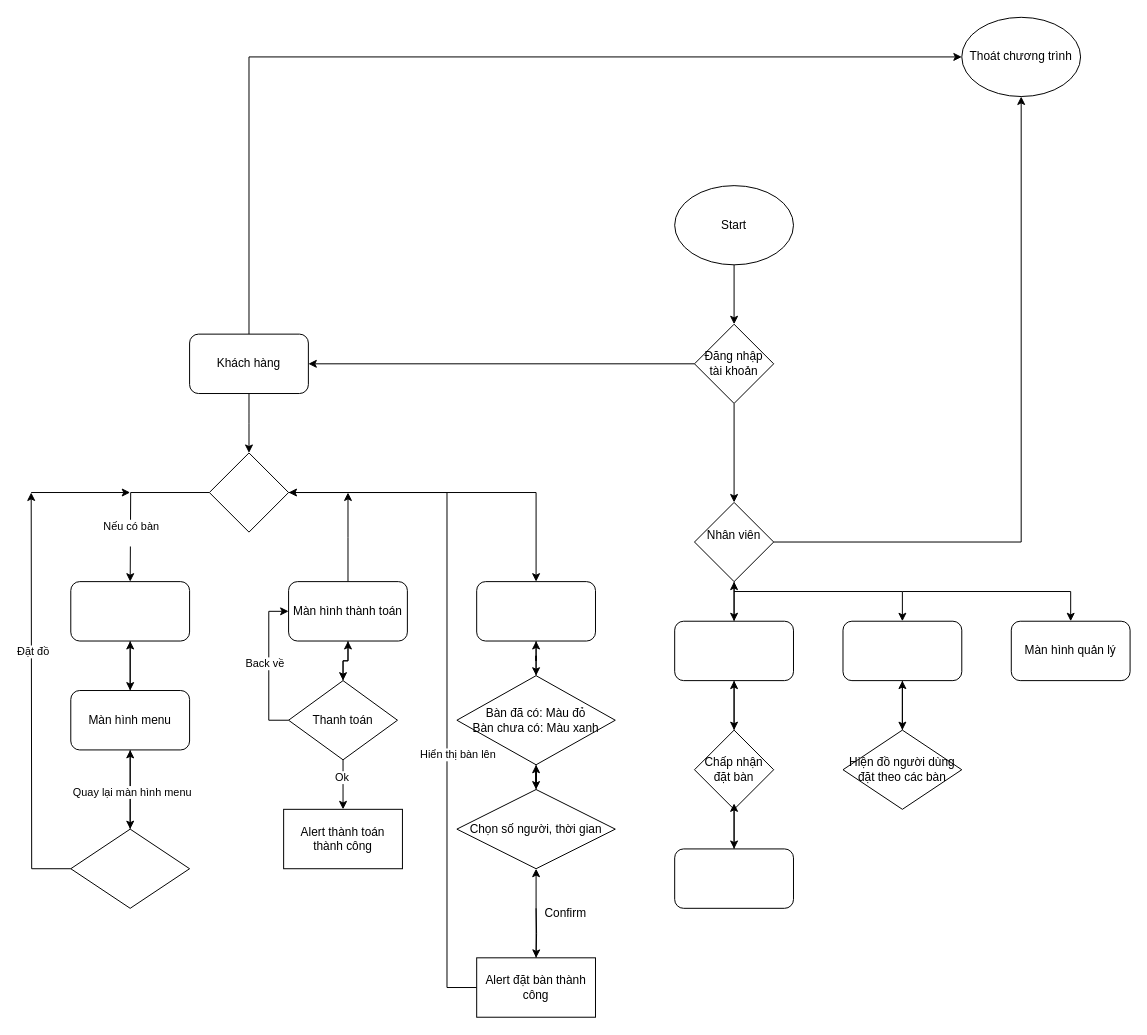
Image size: 1147x1035. Some labels were removed from this diagram. Each missing label, with the box of its shape:
Màn hình bồi bàn: (842, 620, 962, 681)
Màn hình người dùng: (208, 452, 289, 532)
Màn hình người dùng hiện bàn đã đặt: (674, 848, 793, 908)
Màn hình order: (70, 581, 190, 641)
Màn hình thu ngân: (674, 620, 793, 681)
Màn hình đặt bàn: (476, 581, 595, 641)
Thêm vào giỏ hàng: (70, 828, 190, 908)
